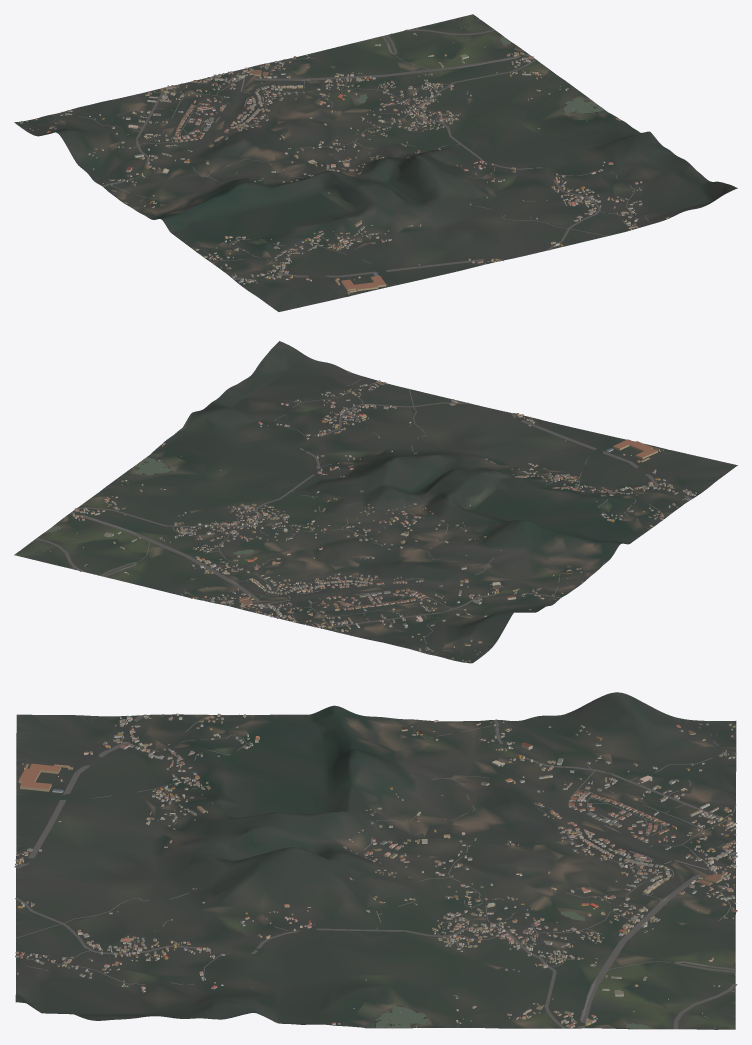
3 views of the same model, one above another, from view 1: azimuth 30°, elevation 25°; view 2: azimuth 150°, elevation 25°; view 3: azimuth 270°, elevation 25° (orthographic). The views are drawn at different scales.
Parts seen in each view (by area): view 1: ground, buildings, roads, water; view 2: ground, buildings, roads, water; view 3: ground, buildings, roads, water.
Part boxes in pixels (x1,y1,x2,y2): ground: (14, 14, 737, 311); buildings: (20, 28, 668, 294); roads: (19, 27, 648, 279); water: (253, 19, 608, 166); ground: (14, 341, 737, 663); buildings: (50, 371, 696, 662); roads: (35, 379, 693, 662); water: (21, 454, 418, 598); ground: (15, 692, 736, 1029); buildings: (15, 713, 737, 1028); roads: (14, 714, 737, 1029); water: (366, 833, 716, 1029).
Size of the model in its own units: 2808 by 171 by 2820.
